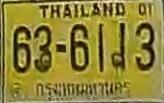1: (119, 22, 126, 70), (98, 22, 104, 71)
3: (135, 22, 154, 70), (33, 24, 51, 72)
6: (70, 23, 88, 70), (12, 25, 30, 72)
BKK: (34, 80, 132, 99)
